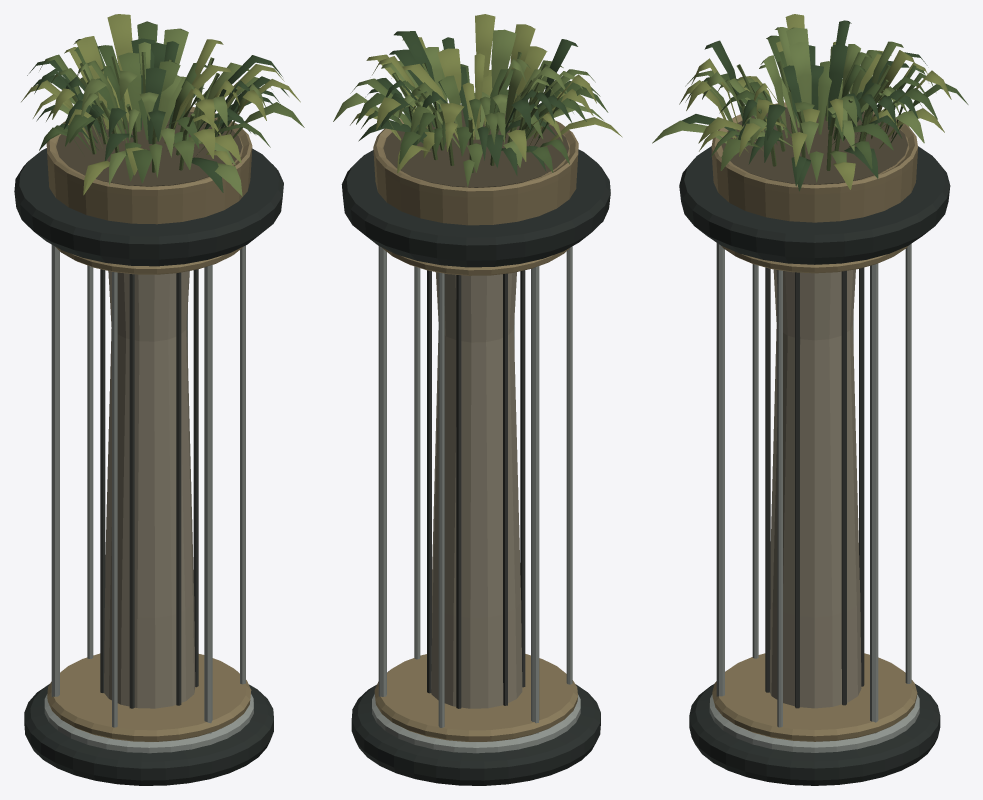
File: column.glb
The picture shows the model from 3 angles, left to right: view 1: azimuth 30°, elevation 25°; view 2: azimuth 150°, elevation 25°; view 3: azimuth 270°, elevation 25°; orthographic projection.
Parts seen in each view (by area): view 1: GoToWestColumn; view 2: GoToWestColumn; view 3: GoToWestColumn.
Boxes of the visible parts, bbox=[...] form: GoToWestColumn: bbox=[14, 14, 304, 785]; GoToWestColumn: bbox=[333, 14, 622, 785]; GoToWestColumn: bbox=[652, 14, 968, 785].
Size of the model in its own units: 0.9245 by 2.46 by 1.04.
